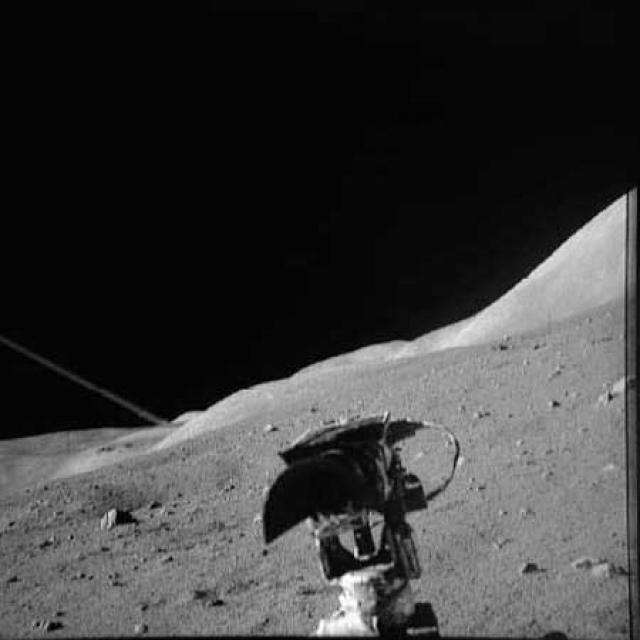artifact: (254, 400, 468, 638)
crater: (0, 430, 306, 530)
rock: (88, 498, 138, 534), (598, 368, 638, 409)
